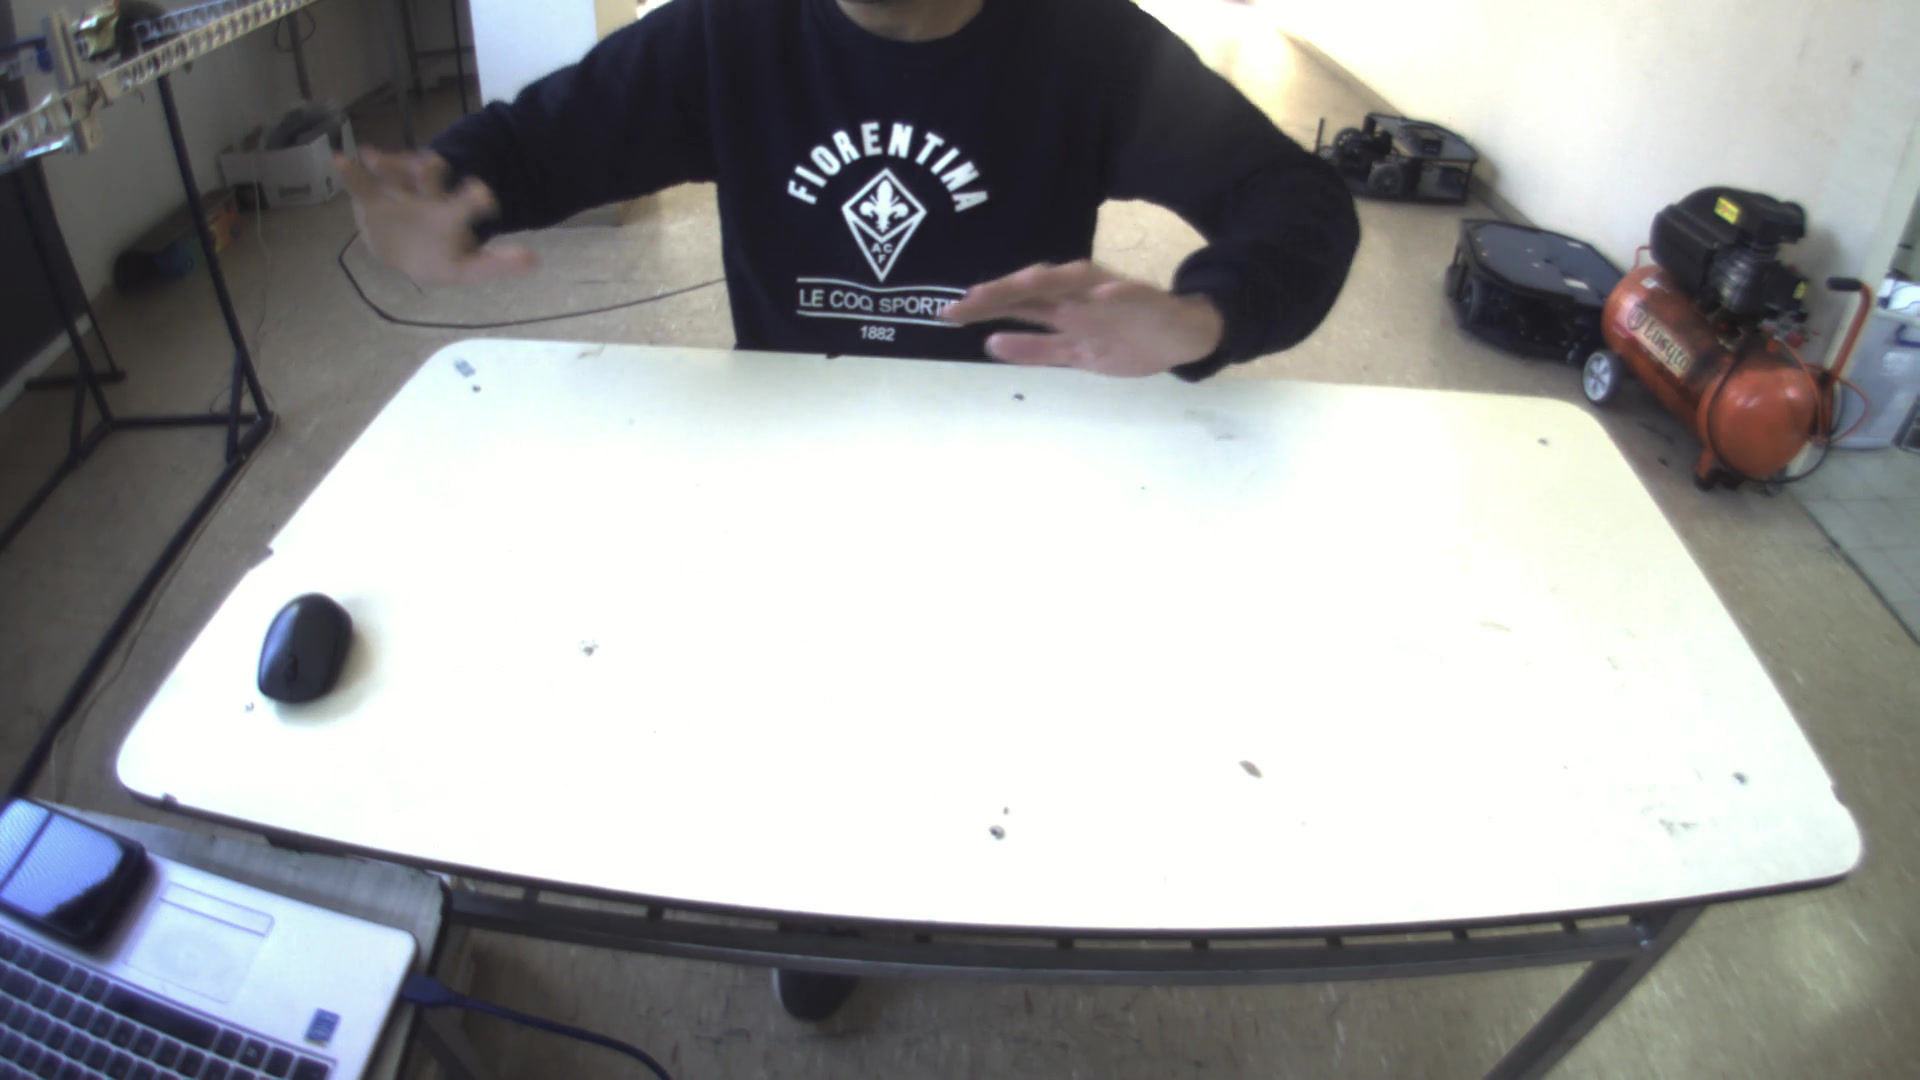hand: (945, 235, 1183, 380), (310, 125, 498, 273)
